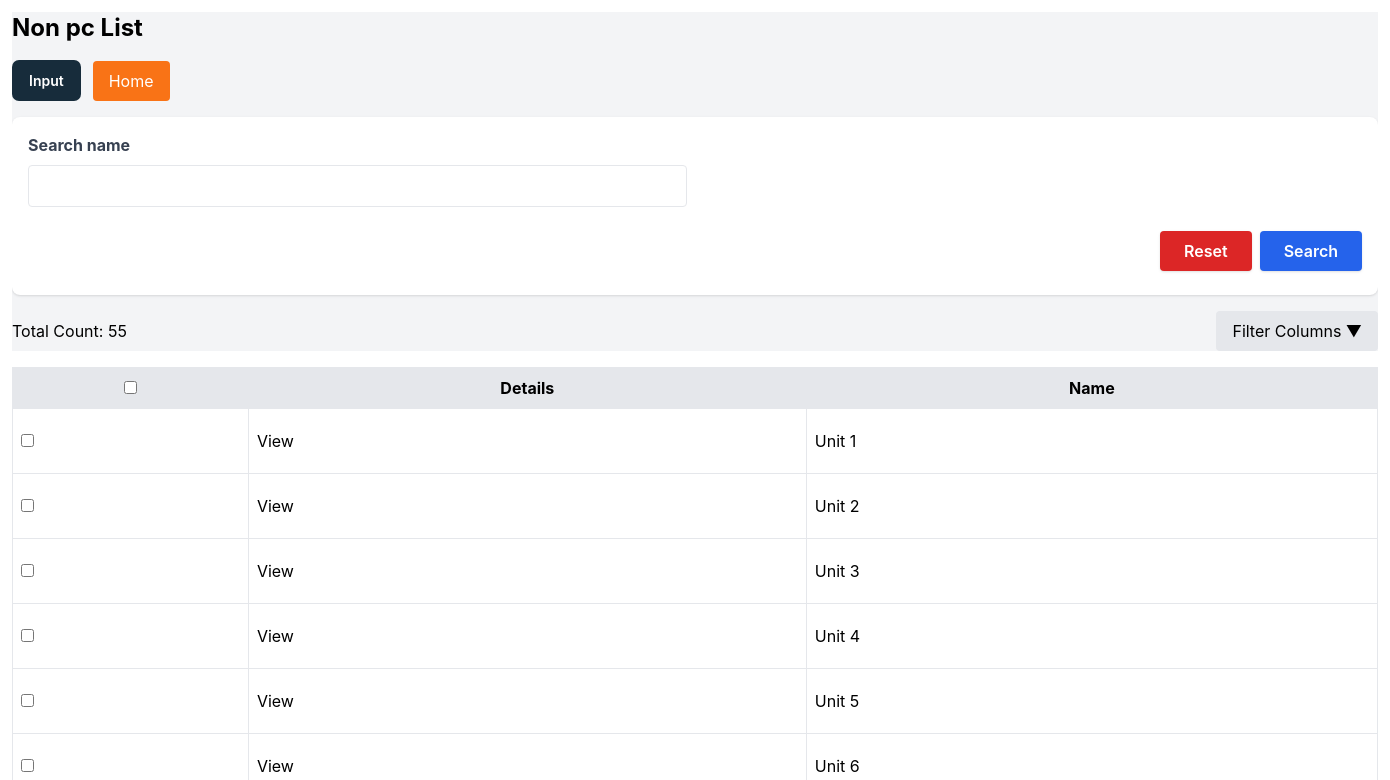
Test case: large lists paginate and hidden selections cannot be submitted after changing filters
Click the checkbox named "Select item 1" at (28, 440), box [21, 434, 34, 447]
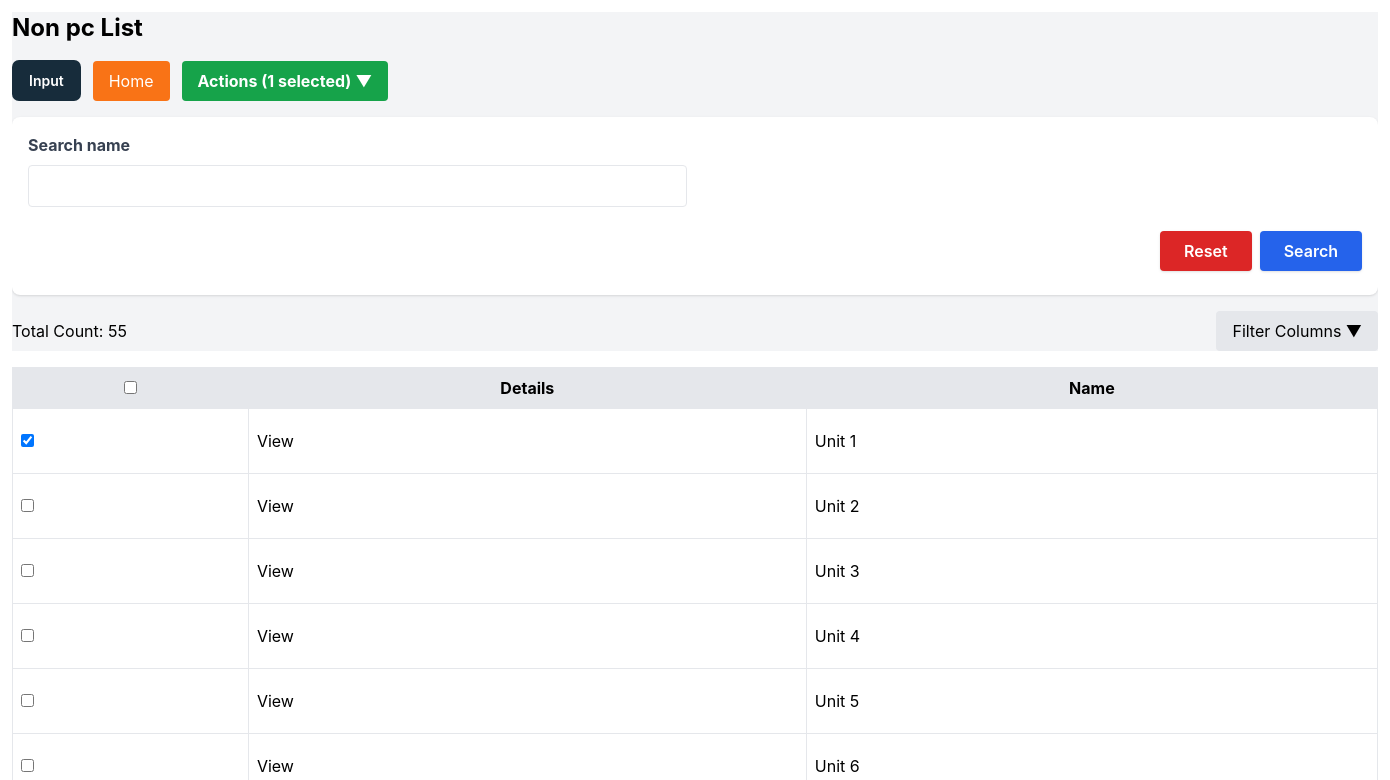
Check: the button "Actions (1 selected) ▼" is shown, box [182, 60, 388, 100]
Type "Unit 55" into the field labelled "Search name" at (358, 186), box [28, 165, 687, 207]
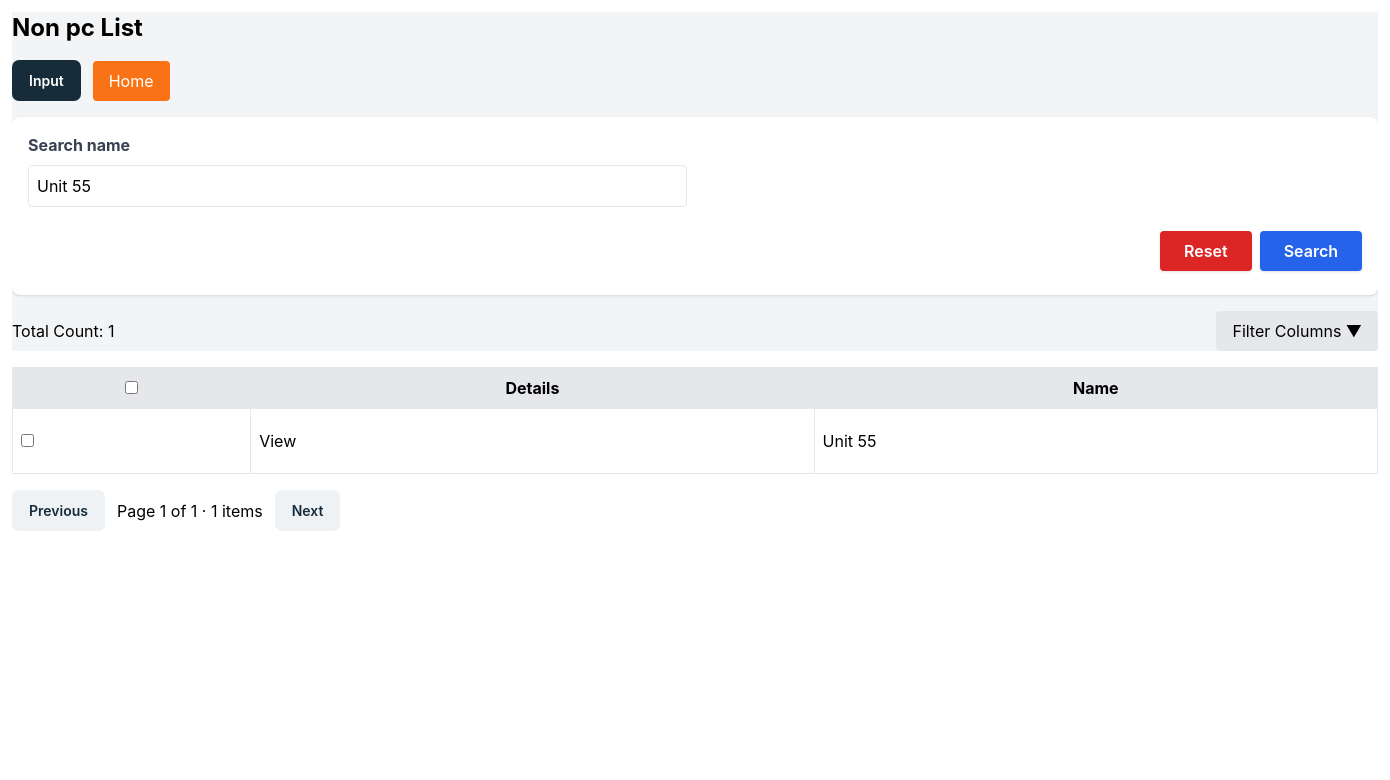
Check: the button "Actions" is gone
